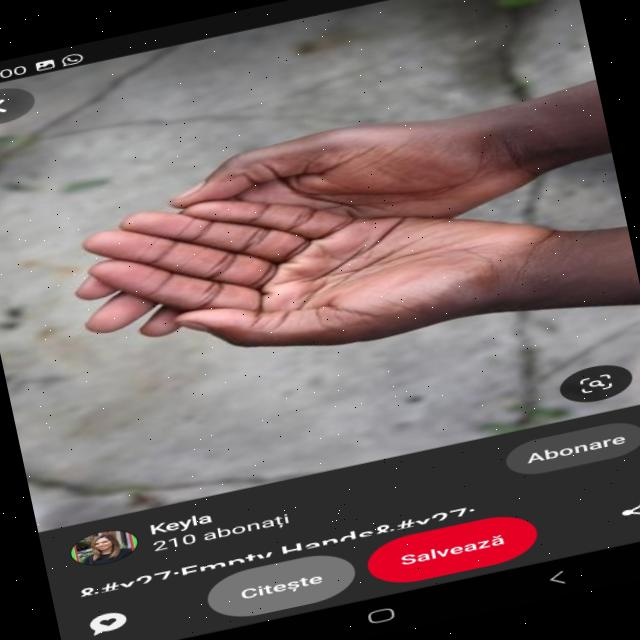hands: (31, 38, 597, 483)
